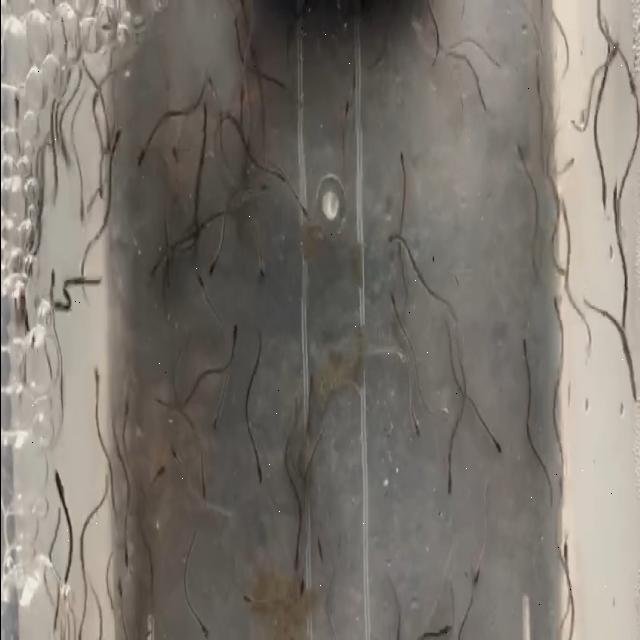active_glass_eel: (9, 74, 28, 130), (622, 46, 637, 114), (115, 378, 136, 426), (604, 23, 622, 78), (552, 302, 570, 354), (110, 569, 128, 621), (512, 332, 532, 374), (192, 263, 210, 309), (552, 464, 568, 514), (250, 262, 273, 296), (236, 589, 260, 621), (552, 189, 566, 243), (48, 259, 62, 313), (609, 178, 624, 228), (148, 247, 168, 284), (594, 164, 608, 216), (130, 142, 152, 174), (52, 464, 66, 514), (558, 536, 574, 578), (295, 567, 316, 599), (148, 456, 167, 491), (168, 144, 186, 180), (298, 194, 314, 233), (206, 237, 220, 281), (528, 48, 546, 82), (226, 318, 244, 352), (466, 556, 482, 592), (554, 150, 574, 178), (288, 534, 302, 574), (253, 453, 267, 492), (410, 414, 427, 446), (167, 441, 183, 475), (108, 128, 122, 166), (628, 374, 640, 416), (120, 535, 134, 571), (90, 357, 104, 393), (192, 612, 210, 640), (439, 471, 454, 504), (210, 404, 223, 442), (444, 39, 458, 74), (430, 10, 450, 34), (190, 123, 210, 147), (76, 190, 88, 230), (91, 178, 107, 208), (393, 144, 407, 178), (386, 287, 404, 313), (381, 225, 396, 253), (492, 431, 504, 464), (343, 97, 355, 129), (554, 606, 565, 640), (197, 471, 207, 508), (514, 135, 530, 157)
